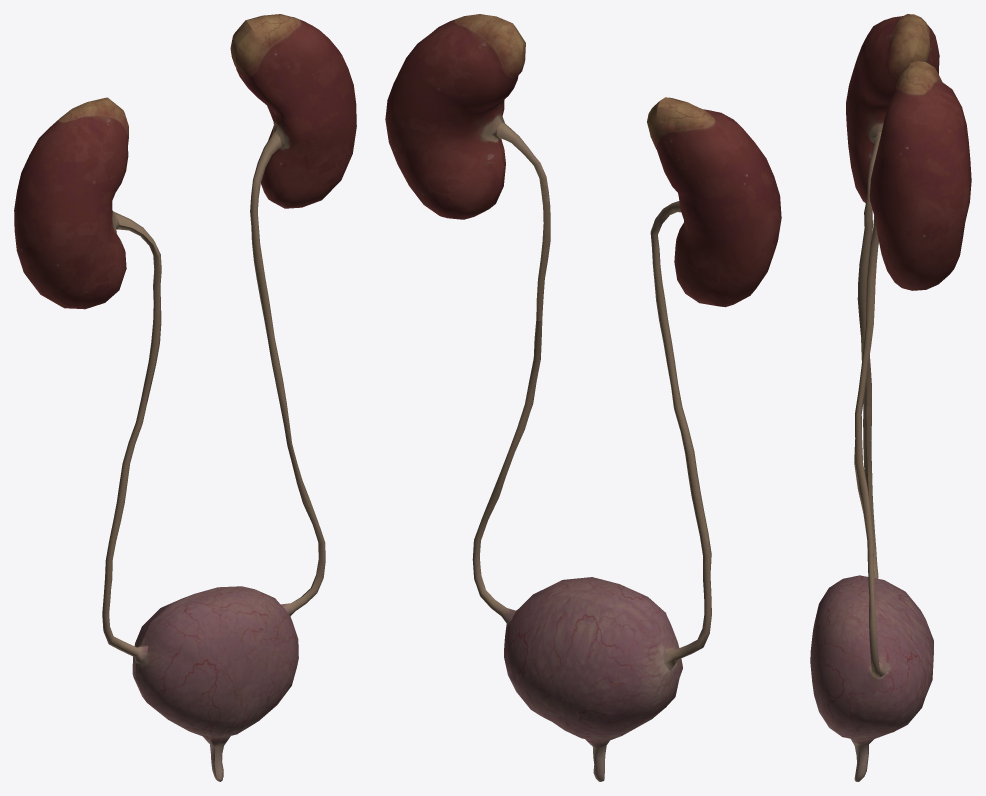
The model's file is Adam_Urimary_System.dae.
The picture shows the model from 3 angles, left to right: view 1: azimuth 30°, elevation 25°; view 2: azimuth 150°, elevation 25°; view 3: azimuth 270°, elevation 25°; orthographic projection. The views are drawn at different scales.
Visible parts, largest first — view 1: 8.003; view 2: 8.003; view 3: 8.003.
Boxes of the visible parts, bbox=[...] form: 8.003: bbox=[14, 14, 356, 781]; 8.003: bbox=[385, 14, 781, 781]; 8.003: bbox=[810, 14, 971, 781].
Bounding box in the file's own units: 5.21 × 2.02 × 10.38.
1 material, 1 textured.
